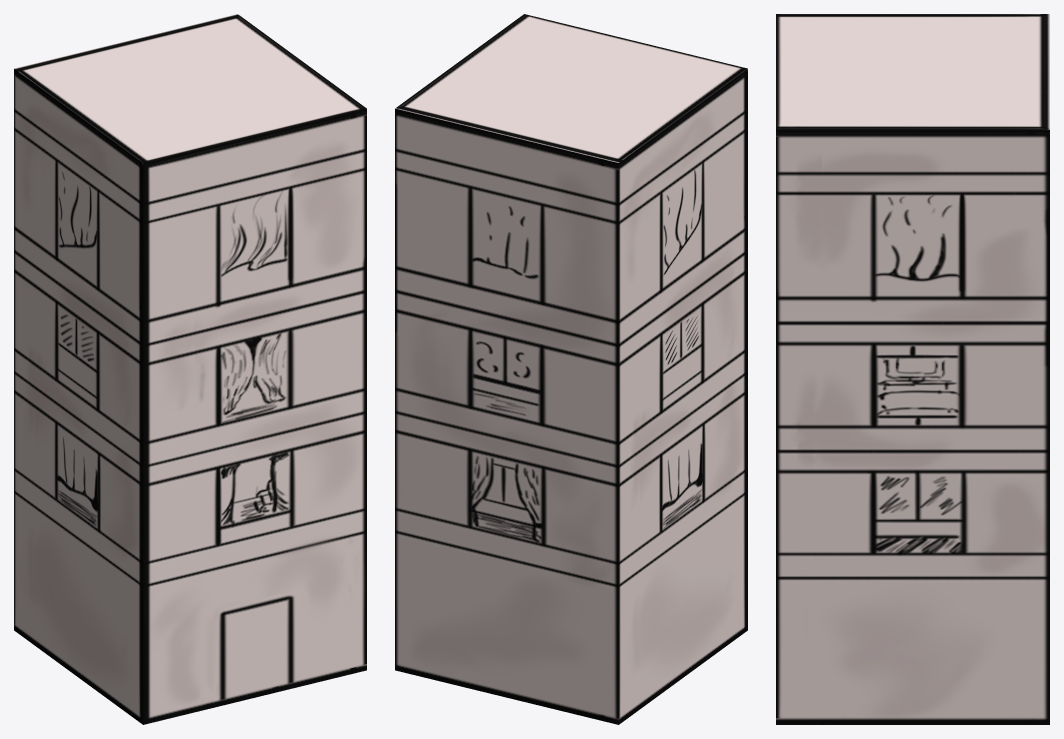
Rendered from Building 1.fbx.
The picture shows the model from 3 angles, left to right: view 1: azimuth 30°, elevation 25°; view 2: azimuth 150°, elevation 25°; view 3: azimuth 270°, elevation 25°; orthographic projection. The views are drawn at different scales.
Visible parts, largest first — view 1: building 1; view 2: building 1; view 3: building 1.
Boxes of the visible parts, box(x1,y1,x2,y2) form: building 1: box(14, 14, 366, 724); building 1: box(395, 14, 747, 724); building 1: box(776, 14, 1049, 724).
Size of the model in its own units: 500 by 1200 by 500.
